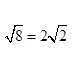sqrt: (3, 23, 24, 44), (50, 23, 69, 43)
